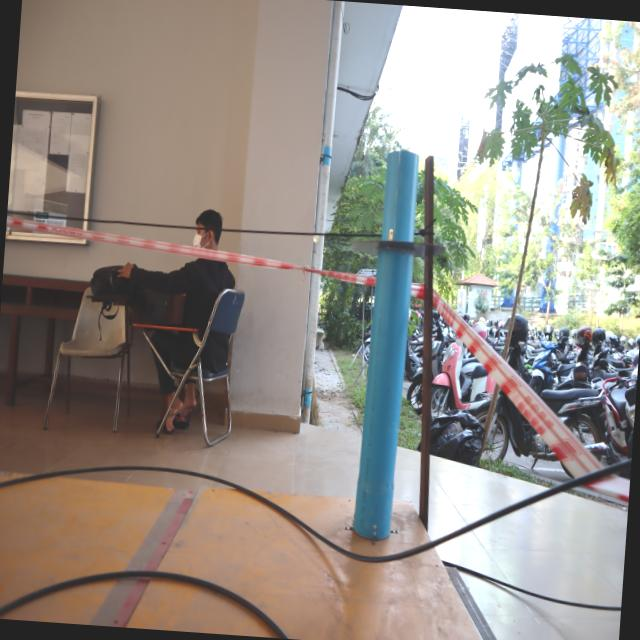pole: (340, 143, 454, 346)
